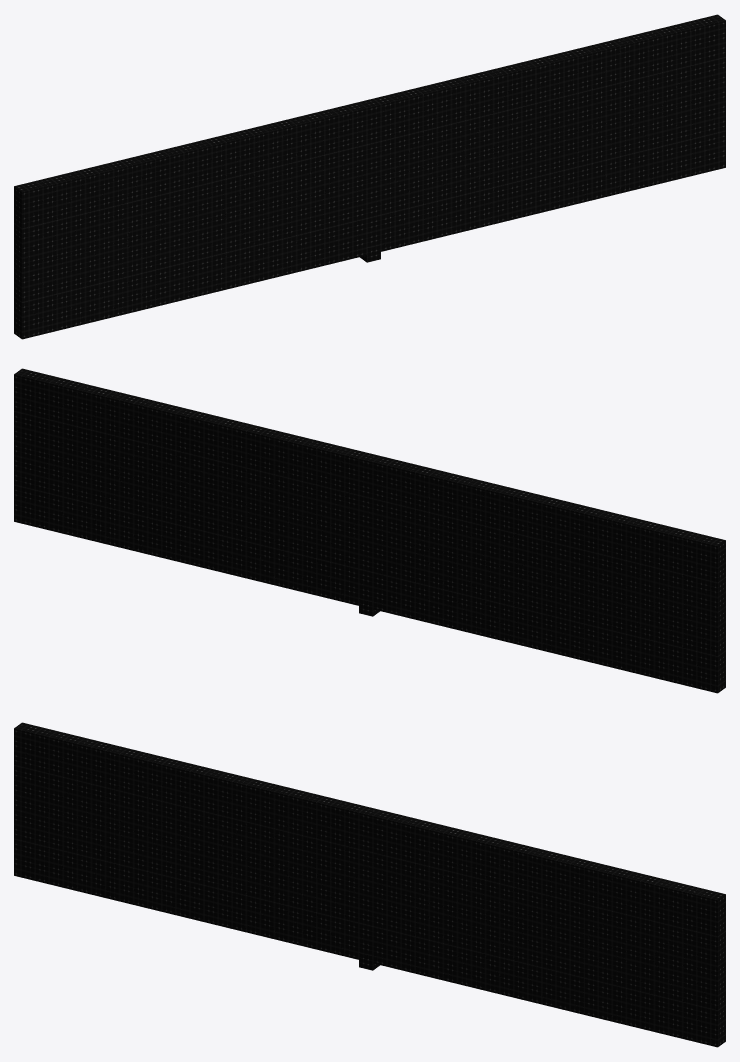
The model's file is TinyVerse_CommonModels.fbx.
The picture shows the model from 3 angles, top to bottom: view 1: azimuth 30°, elevation 25°; view 2: azimuth 150°, elevation 25°; view 3: azimuth 330°, elevation 25°; orthographic projection.
Parts seen in each view (by area): view 1: DemoWall_Baked; view 2: DemoWall_Baked; view 3: DemoWall_Baked.
Part boxes in pixels (<box>): DemoWall_Baked: <box>14,14,725,339</box>; DemoWall_Baked: <box>14,368,725,693</box>; DemoWall_Baked: <box>14,722,725,1047</box>.
Bounding box in the file's own units: 10000 × 2100 × 200.
